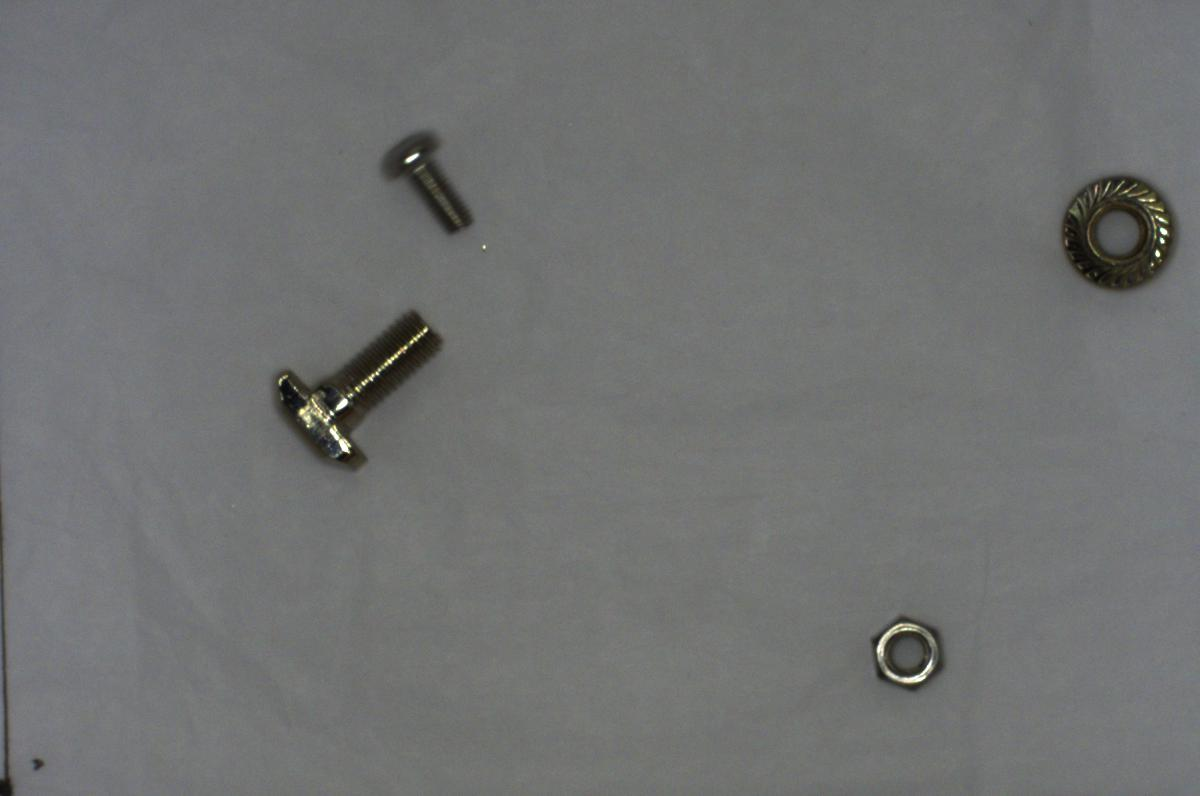Flange nut: (1045, 169, 1172, 301)
Hexagon nut: (864, 610, 951, 694)
Round head screw: (368, 119, 481, 247)
T-shaped screw: (259, 309, 445, 474)
